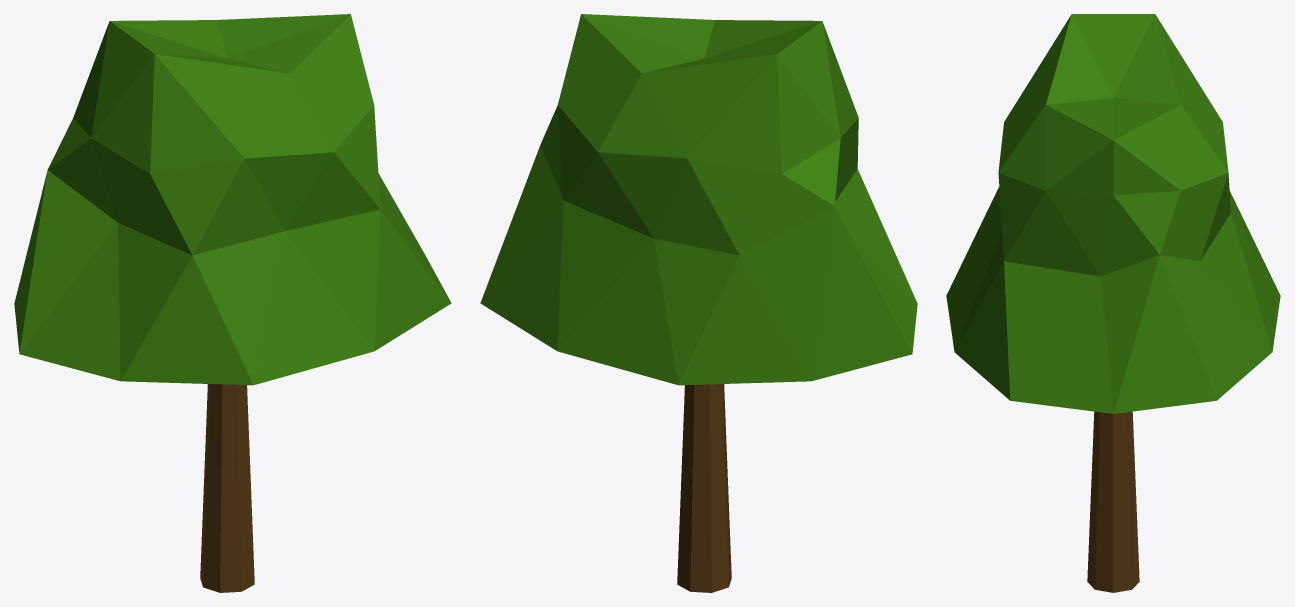
Rendered from oak.fbx.
3 views of the same model, side by side, from view 1: azimuth 30°, elevation 25°; view 2: azimuth 150°, elevation 25°; view 3: azimuth 270°, elevation 25° (orthographic). The views are drawn at different scales.
Parts seen in each view (by area): view 1: Icosphere; view 2: Icosphere; view 3: Icosphere.
Part boxes in pixels (box(x1,y1,x2,y2)): Icosphere: box(14, 14, 451, 592); Icosphere: box(480, 14, 917, 592); Icosphere: box(946, 14, 1280, 592).
Size of the model in its own units: 266 by 355 by 205.
